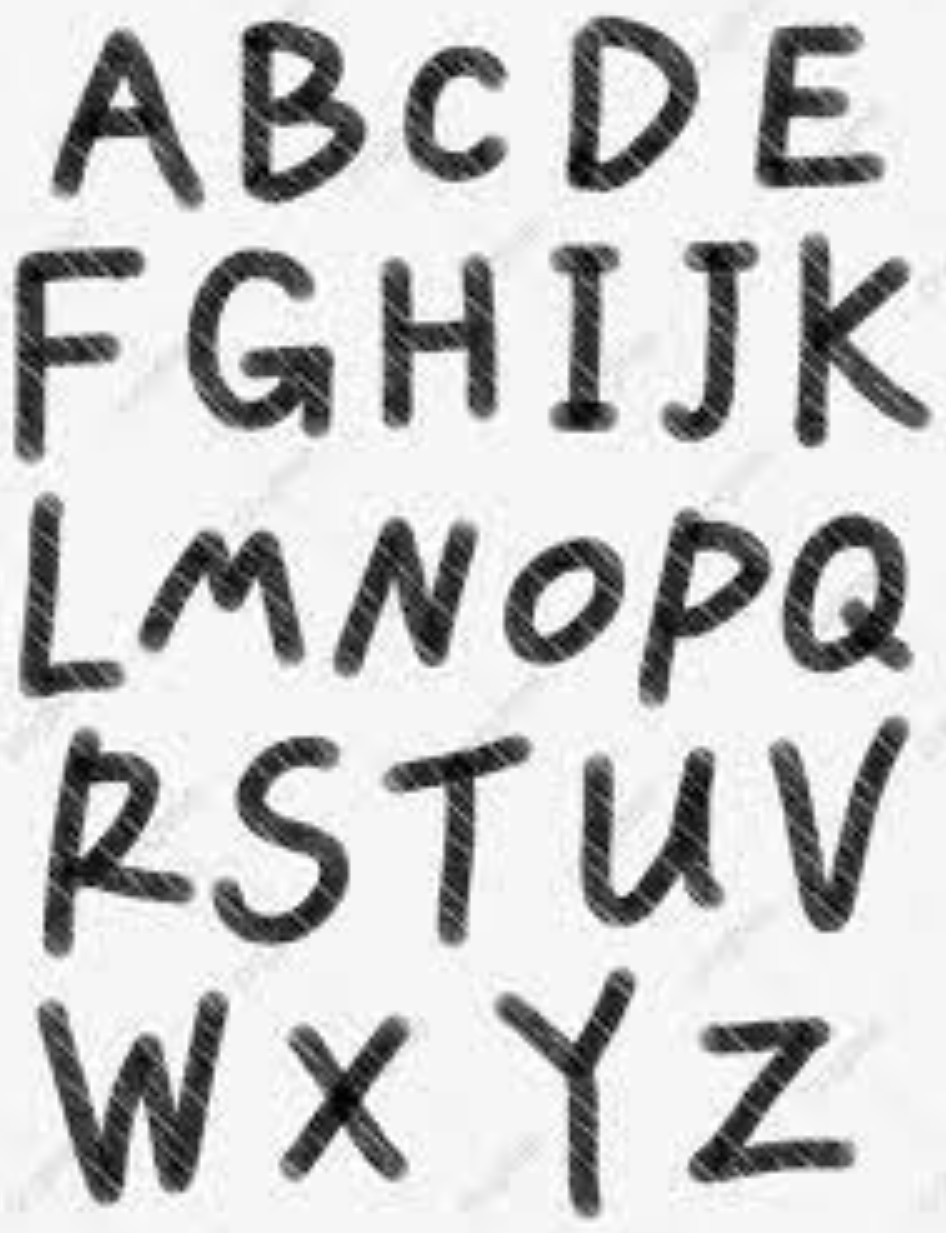A: (47, 19, 214, 216)
B: (225, 12, 374, 213)
C: (397, 28, 528, 193)
D: (551, 16, 710, 194)
E: (747, 14, 898, 202)
F: (8, 240, 150, 464)
G: (181, 239, 345, 446)
H: (367, 246, 508, 438)
I: (530, 230, 643, 454)
J: (662, 236, 765, 442)
K: (782, 228, 940, 451)
L: (15, 483, 133, 701)
M: (134, 517, 318, 677)
N: (325, 508, 489, 682)
O: (493, 527, 629, 672)
P: (633, 504, 781, 710)
Q: (778, 504, 928, 687)
R: (34, 720, 202, 957)
S: (203, 731, 370, 942)
T: (374, 721, 540, 943)
U: (570, 732, 739, 942)
V: (754, 706, 924, 938)
W: (24, 979, 239, 1209)
X: (274, 995, 429, 1191)
Y: (489, 966, 659, 1220)
Z: (677, 1001, 878, 1195)
